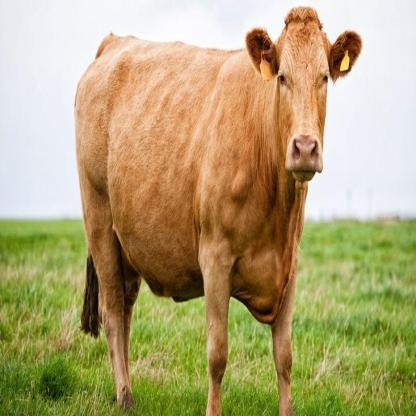cow: (74, 5, 362, 416)
